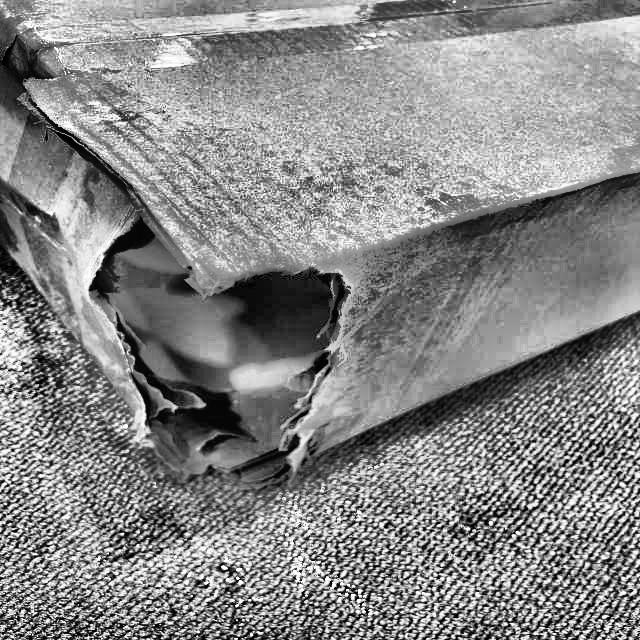box: (0, 4, 640, 499)
hole: (79, 212, 355, 480)
